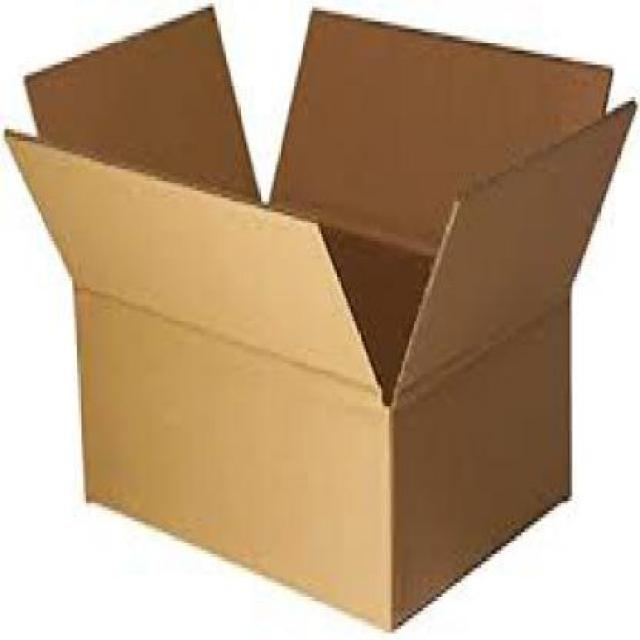CARDBOARD: (2, 3, 636, 626)
